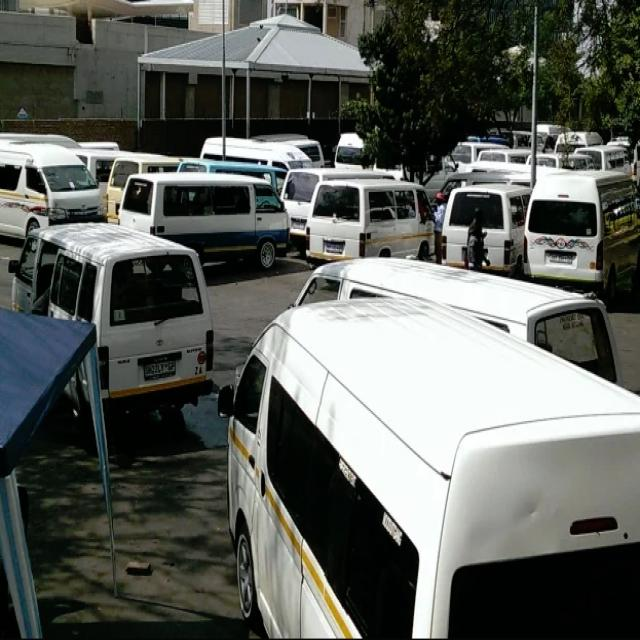MiniBus taxi: (221, 297, 640, 639), (96, 239, 216, 429), (118, 171, 292, 270), (521, 172, 640, 290), (305, 178, 441, 264), (1, 139, 106, 219), (444, 184, 519, 278), (463, 208, 491, 267)
